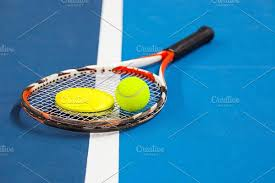tennis_ball: (115, 75, 150, 112)
